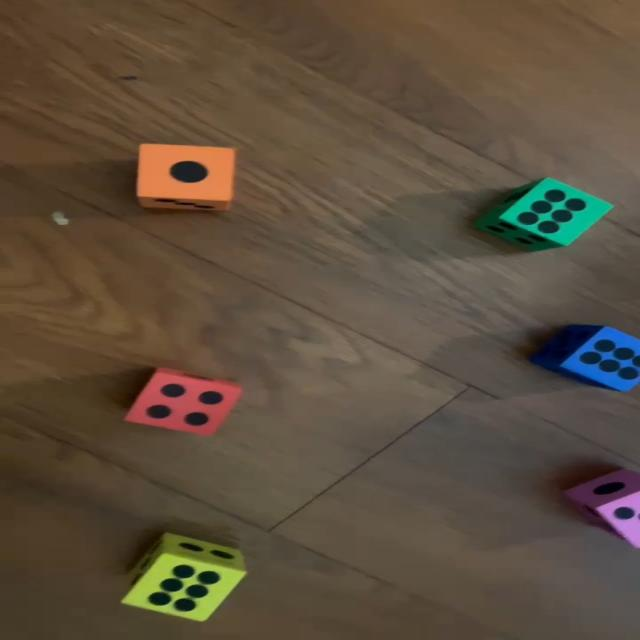blue_block: (529, 324, 640, 392)
red_block: (124, 366, 244, 434)
